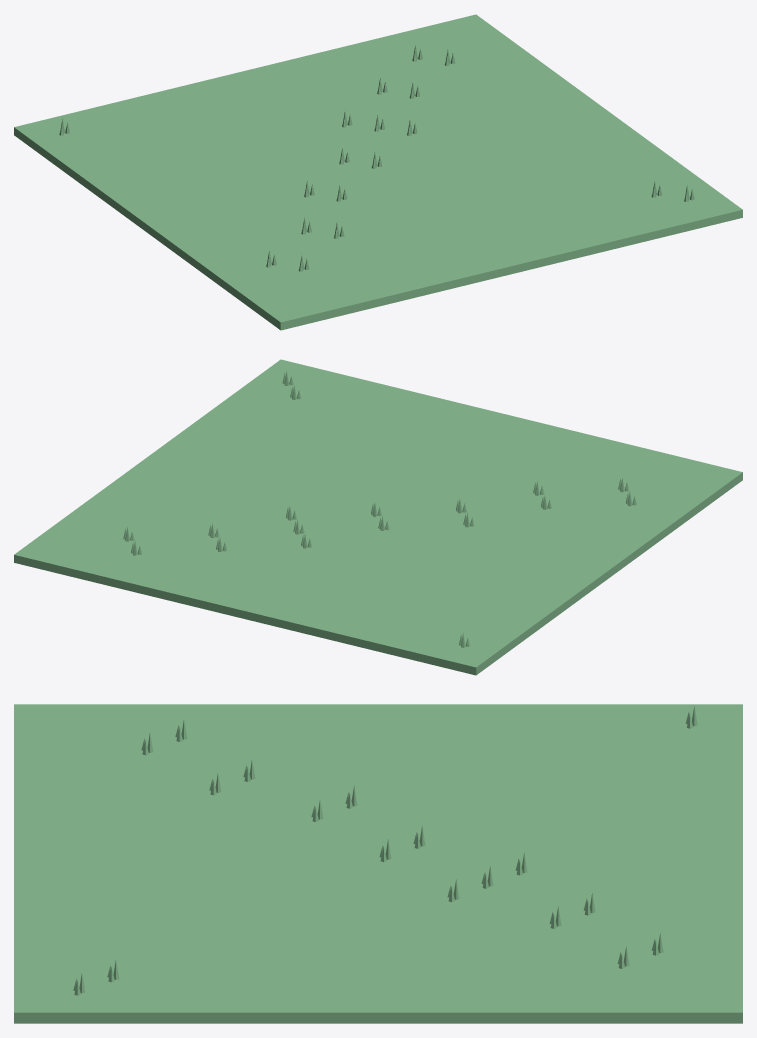
Rendered from baseball-park-and-batting-cages-outfield-grass-tile-38b7be6b__33741.glb.
3 renders of one model, top to bottom at view 1: azimuth 30°, elevation 25°; view 2: azimuth 150°, elevation 25°; view 3: azimuth 270°, elevation 25°, orthographic. The views are drawn at different scales.
Parts seen in each view (by area): view 1: outfield-grass-tile; view 2: outfield-grass-tile; view 3: outfield-grass-tile.
Boxes of the visible parts, x1=… form: outfield-grass-tile: x1=14, y1=14, x2=742, y2=330; outfield-grass-tile: x1=14, y1=359, x2=742, y2=675; outfield-grass-tile: x1=14, y1=704, x2=742, y2=1023.
Size of the model in its own units: 6 by 0.2798 by 6.
